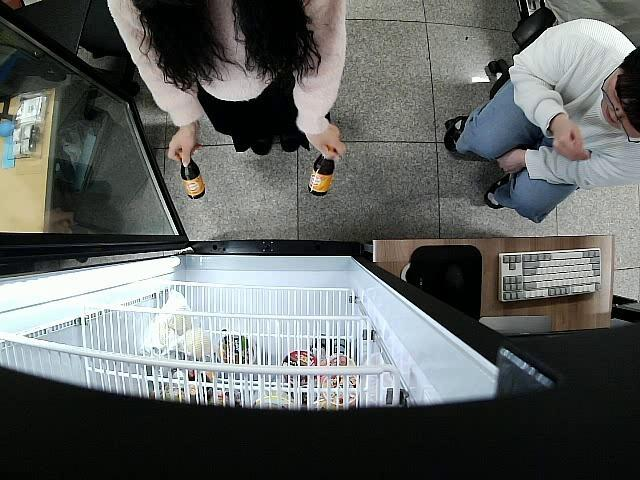17_vita500: (177, 147, 206, 199), (308, 146, 336, 196)
